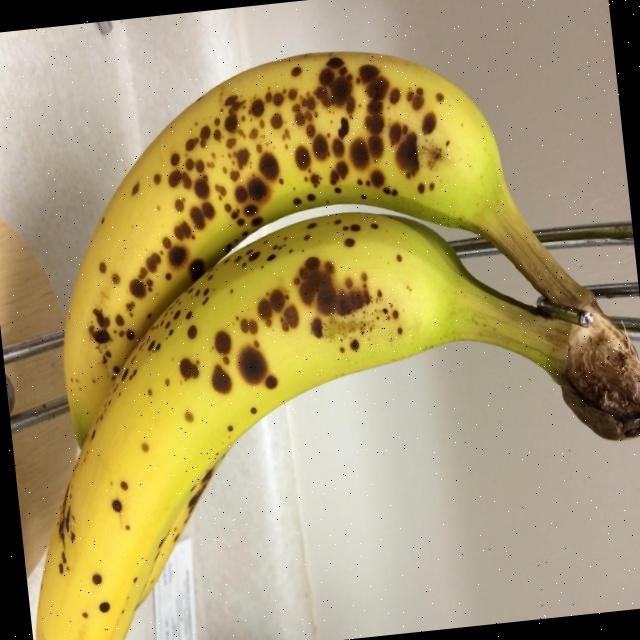banana: (32, 203, 640, 640), (60, 51, 591, 440)
